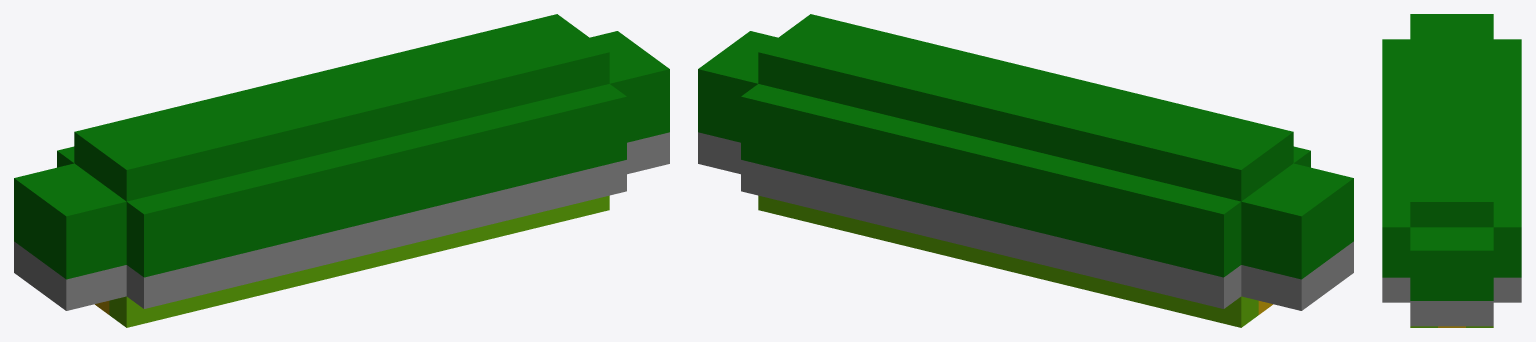
The model's file is SnakeBody.obj.
3 renders of one model, left to right at view 1: azimuth 30°, elevation 25°; view 2: azimuth 150°, elevation 25°; view 3: azimuth 270°, elevation 25°, orthographic. The views are drawn at different scales.
Size of the model in its own units: 2 by 0.5 by 0.5.
1 material, 1 textured.
